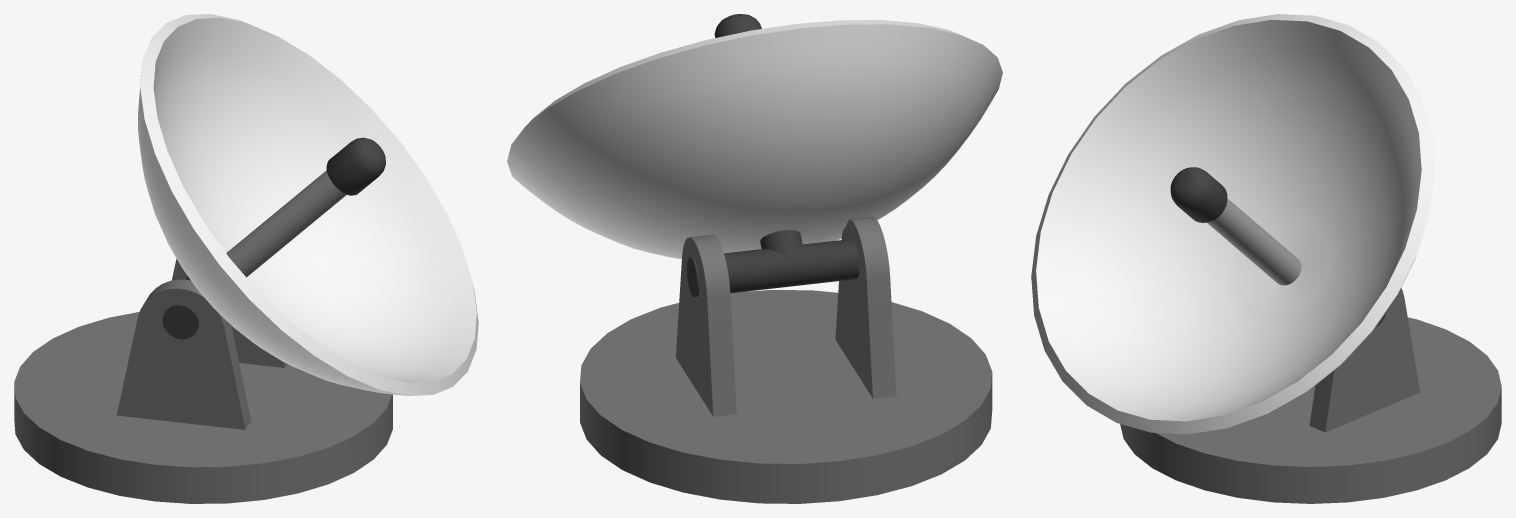
File: satellite_antenna.gltf
3 renders of one model, left to right at view 1: azimuth 30°, elevation 25°; view 2: azimuth 150°, elevation 25°; view 3: azimuth 270°, elevation 25°, orthographic. The views are drawn at different scales.
Parts seen in each view (by area): view 1: Circle.2598; view 2: Circle.2598; view 3: Circle.2598.
Part boxes in pixels (x1,y1,x2,y2): Circle.2598: (14, 14, 478, 503); Circle.2598: (507, 14, 1002, 503); Circle.2598: (1031, 14, 1501, 503).
Size of the model in its own units: 2.22 by 1.98 by 2.22.
Materials: 1 (1 with a texture image).
